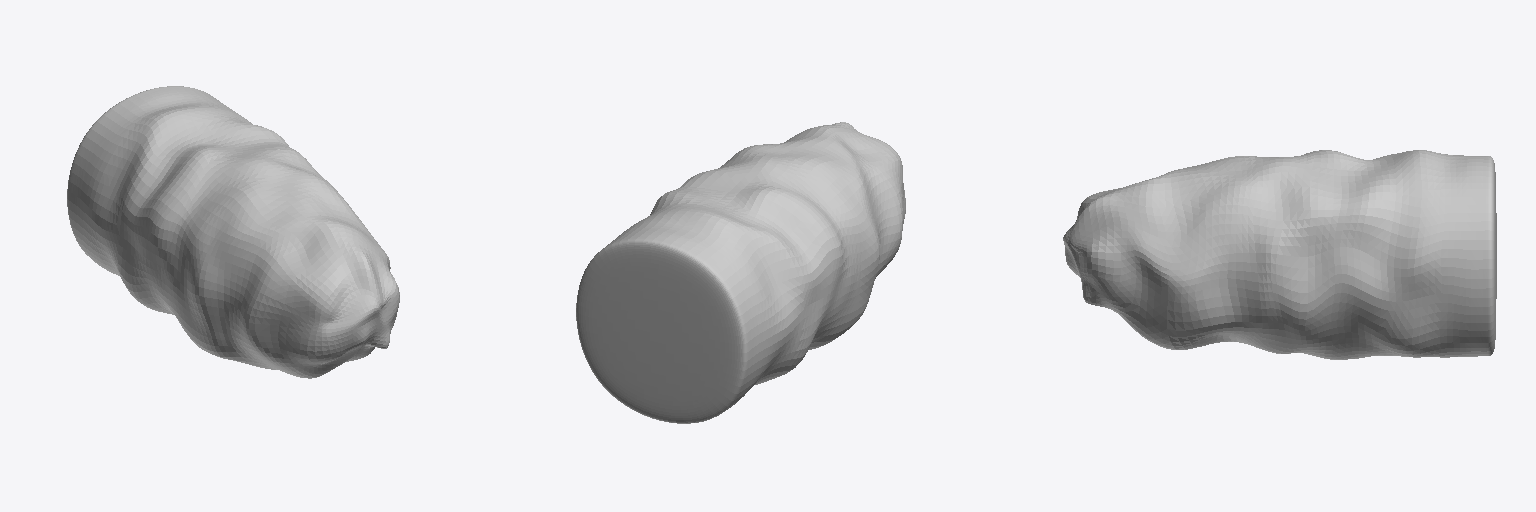
Rendered from camelia.obj.
The picture shows the model from 3 angles: view 1: azimuth 30°, elevation 25°; view 2: azimuth 150°, elevation 25°; view 3: azimuth 270°, elevation 25°; orthographic projection.
Parts seen in each view (by area): view 1: 10437_Camelia_Plant_v1; view 2: 10437_Camelia_Plant_v1; view 3: 10437_Camelia_Plant_v1.
Boxes of the visible parts, box(x1,y1,x2,y2) form: 10437_Camelia_Plant_v1: box(67, 86, 399, 378); 10437_Camelia_Plant_v1: box(576, 122, 905, 423); 10437_Camelia_Plant_v1: box(1063, 150, 1496, 359).
Size of the model in its own units: 70.4 by 73.47 by 151.